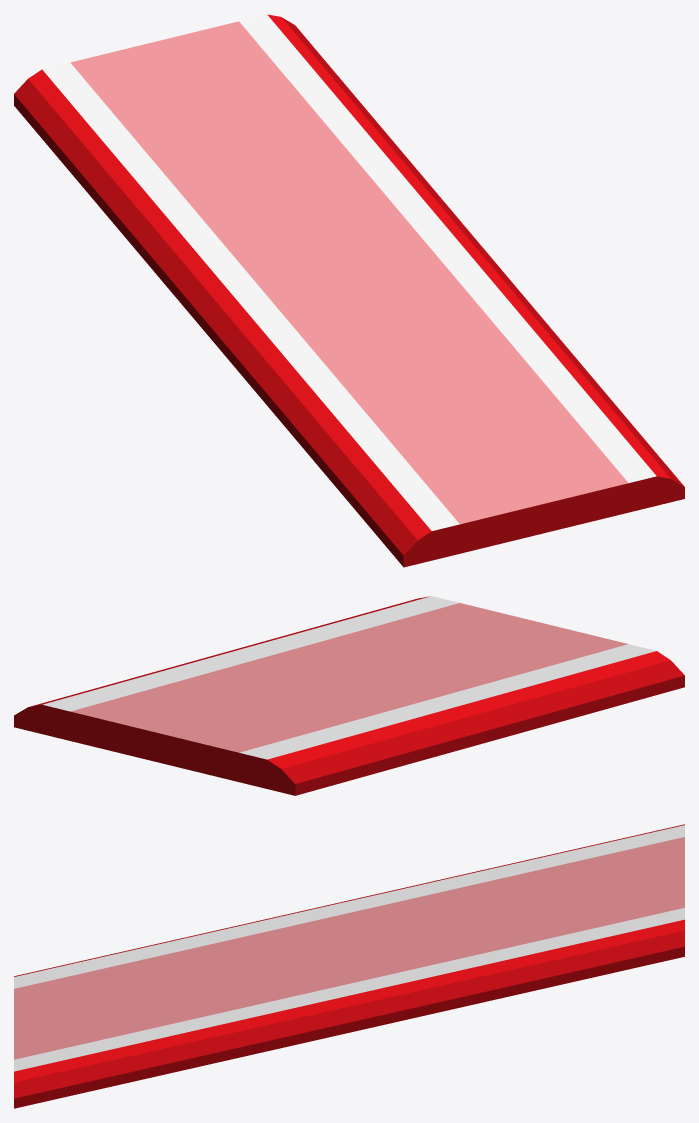
The model's file is longf2.fbx.
3 views of the same model, one above another, from view 1: azimuth 30°, elevation 25°; view 2: azimuth 150°, elevation 25°; view 3: azimuth 270°, elevation 25° (orthographic). The views are drawn at different scales.
Parts seen in each view (by area): view 1: InclineLong2; view 2: InclineLong2; view 3: InclineLong2.
Part boxes in pixels (<box>): InclineLong2: <box>14,14,684,567</box>; InclineLong2: <box>14,596,684,795</box>; InclineLong2: <box>14,824,684,1108</box>.
Bounding box in the file's own units: 10 × 7 × 24.
